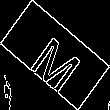M_NE: (23, 21, 87, 89)
